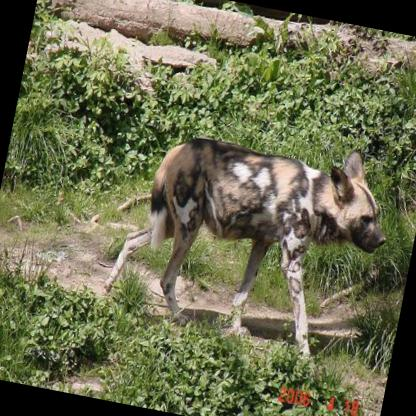African_hunting_dog: (93, 107, 400, 372)
